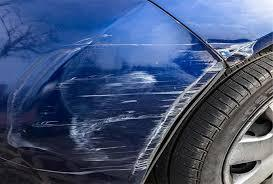scratch: (0, 29, 263, 181)
